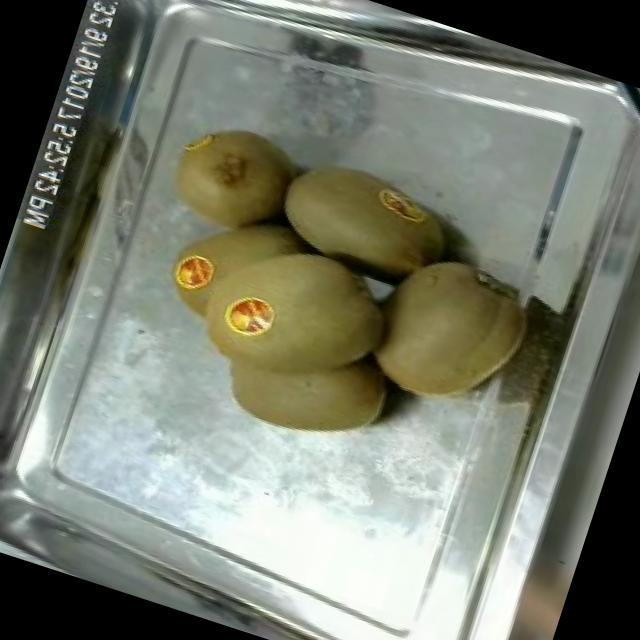Fruit: (167, 200, 430, 468), (350, 232, 549, 429), (260, 136, 475, 298), (150, 102, 310, 256), (458, 523, 583, 640)
